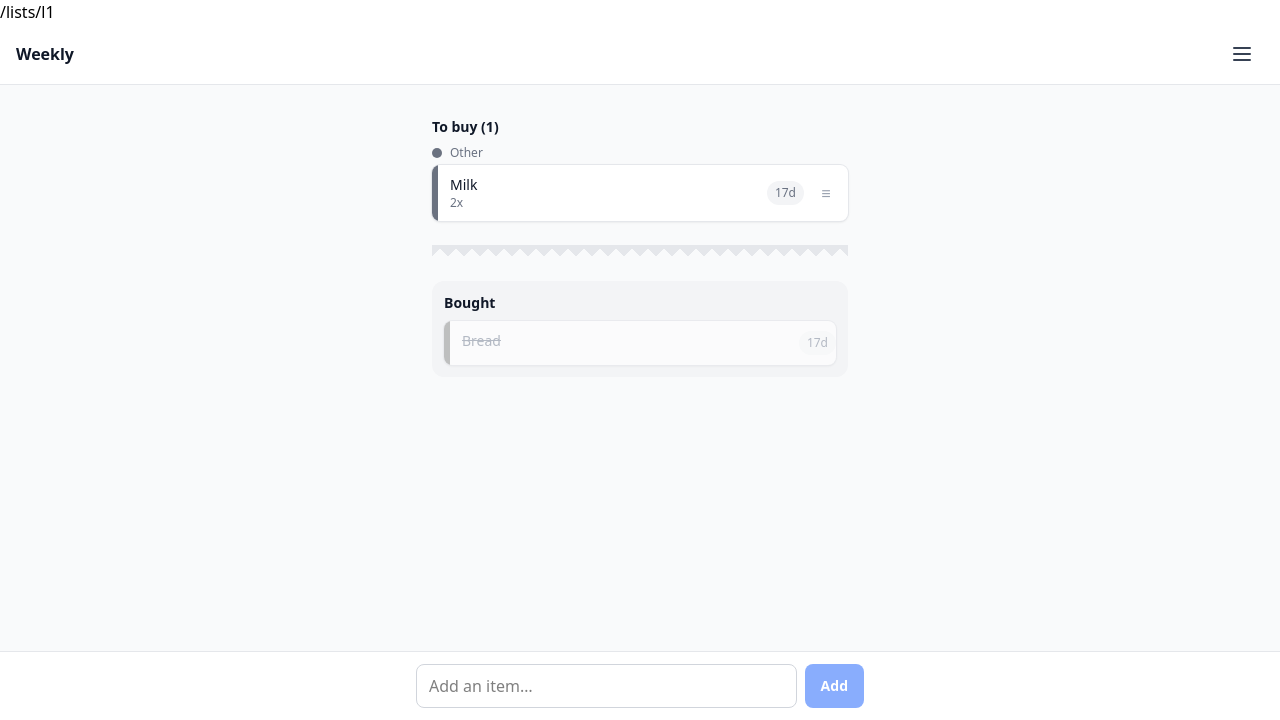
it: ListsPage (docs/TASKS.md → T30 single-line header + overlay menu) › opens the overlay menu with the account block; closes on Escape and backdrop tap
Check: the list item with test id "item-row-i1" is shown, box [432, 165, 848, 221]
Click the button named "Menu" at (1242, 54), box [1220, 32, 1264, 76]
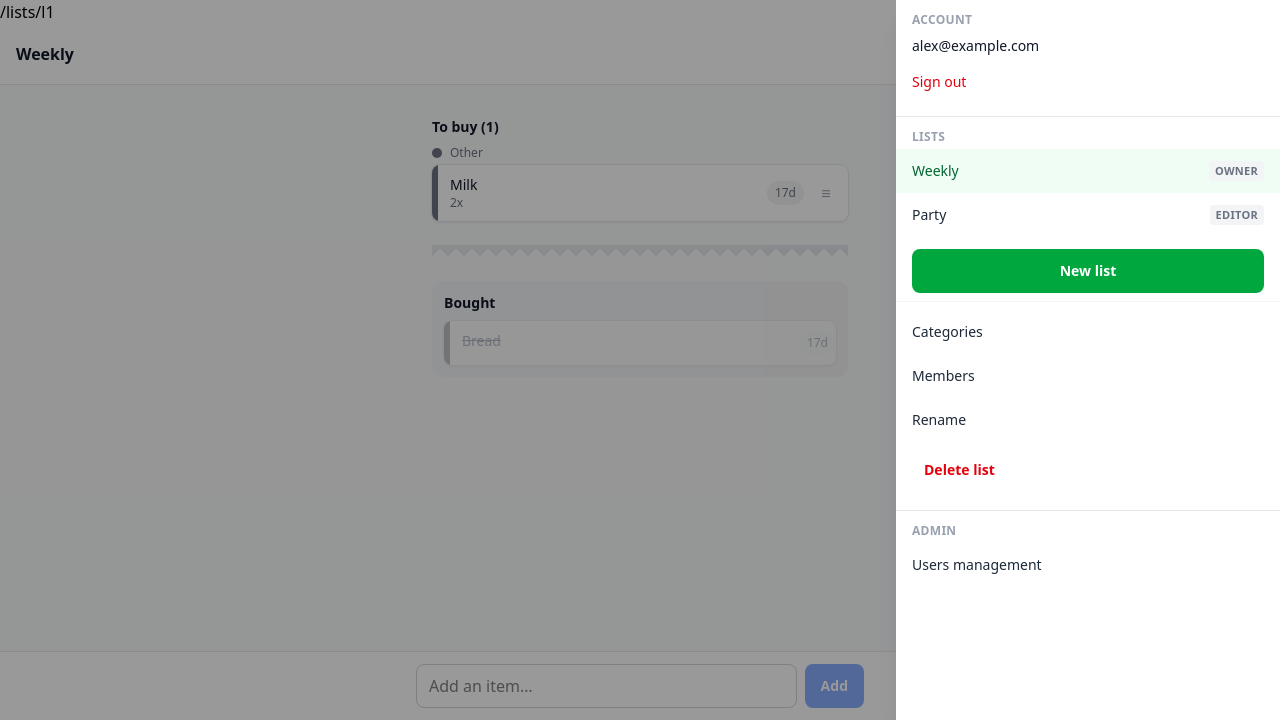
Check: the text with test id "menu-user-email" reads "alex@example.com", box [912, 36, 1039, 55]
Check: the button "Sign out" is shown, box [896, 60, 1279, 104]
Press Escape
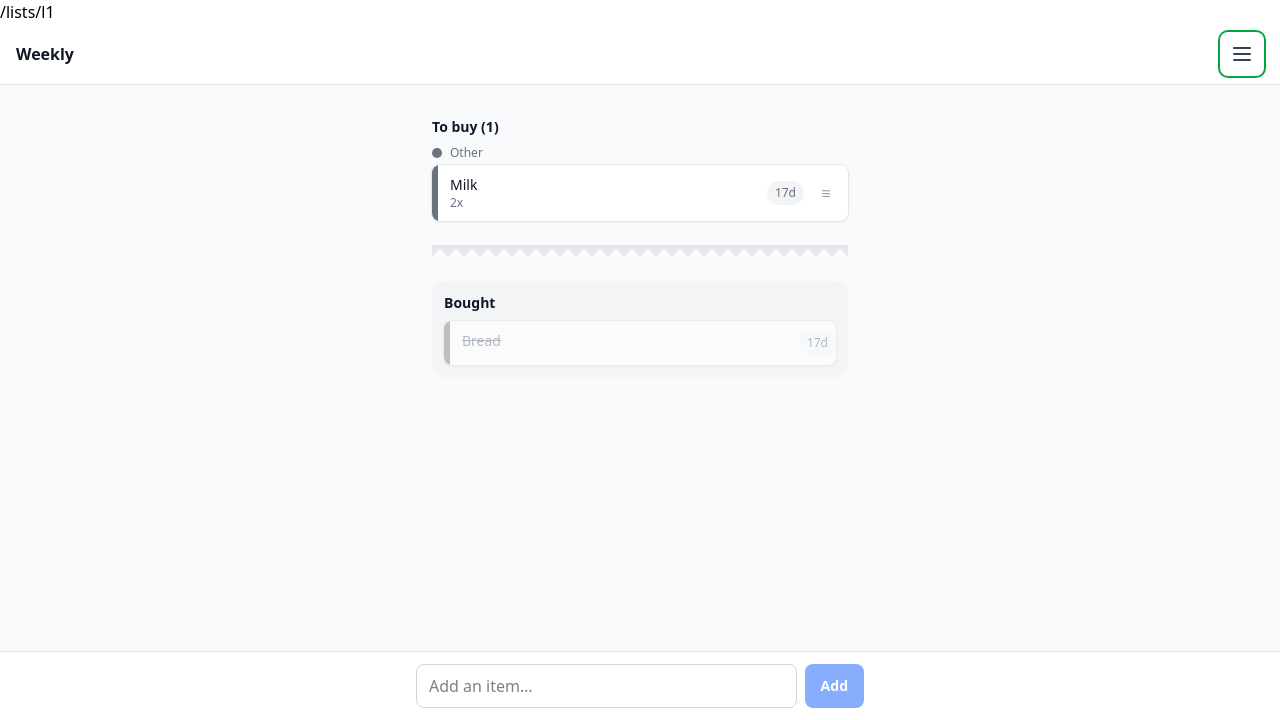
Check: the element with test id "menu-overlay" is gone
Click the button named "Menu" at (1242, 54), box [1220, 32, 1264, 76]
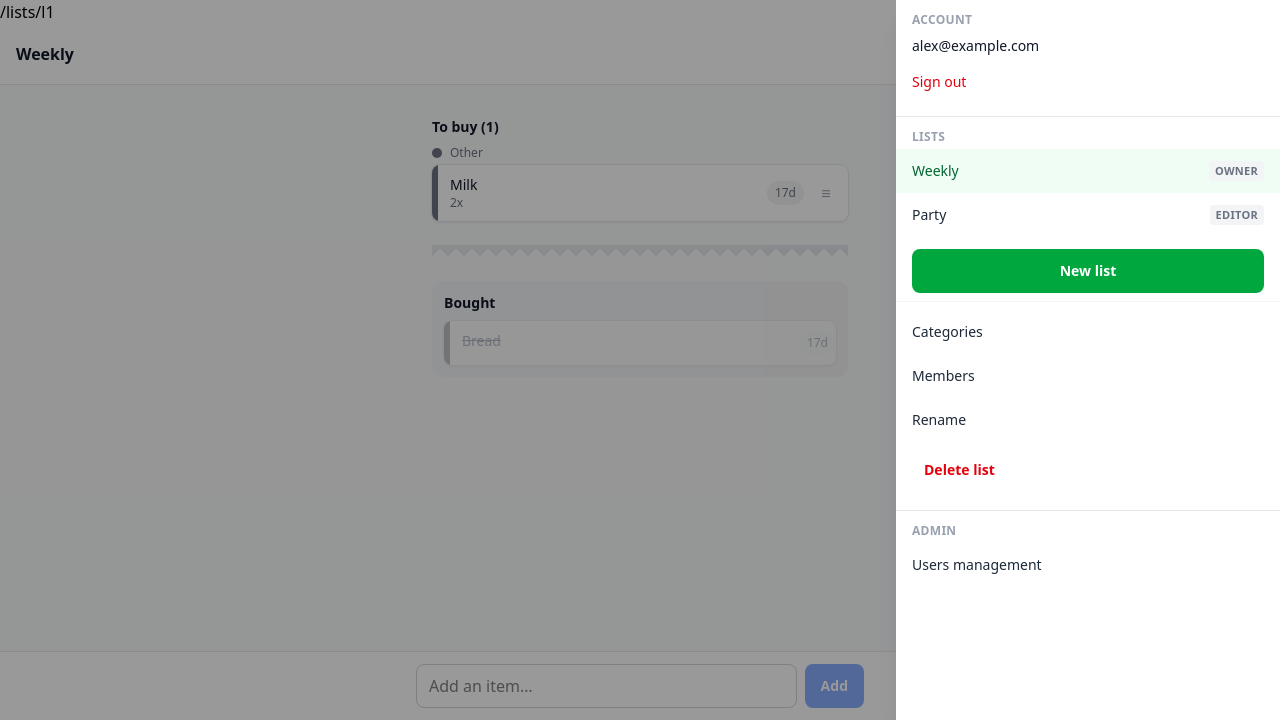
Click the button with test id "menu-backdrop" at (640, 360), box [0, 0, 1279, 719]
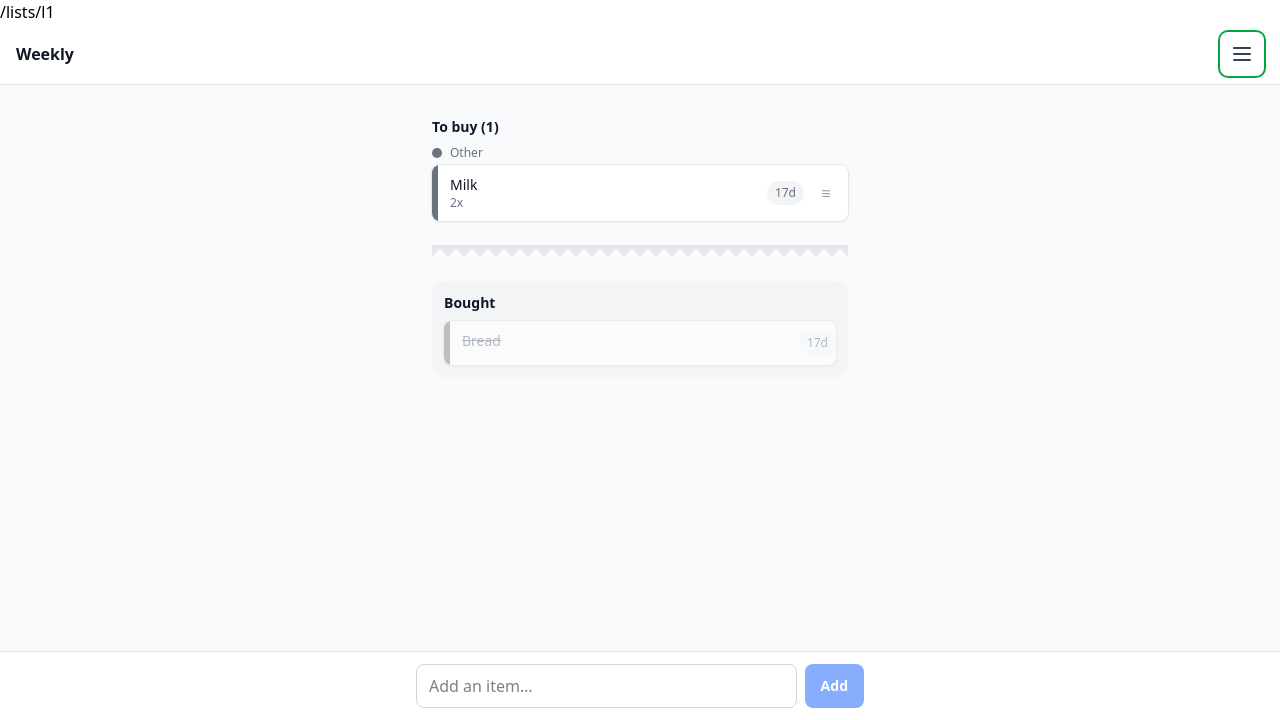
Check: the element with test id "menu-overlay" is gone
